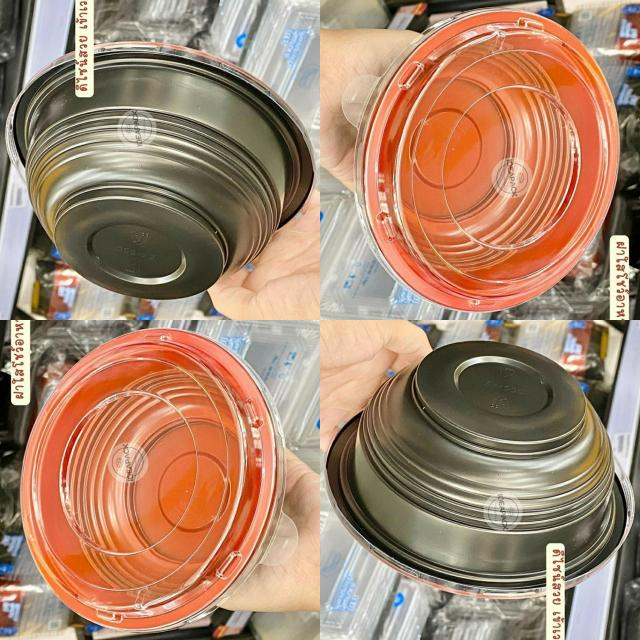Single-Use-Plastic: (21, 329, 285, 631), (355, 10, 619, 311), (6, 42, 314, 299), (326, 341, 634, 598)
